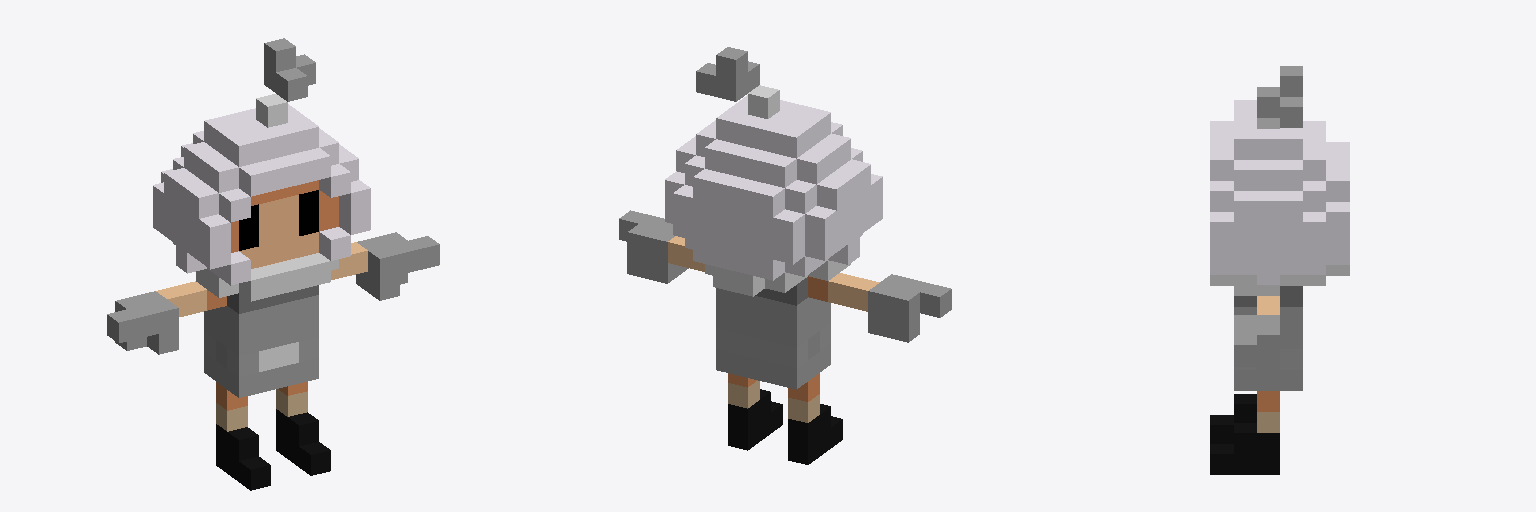
3 views of the same model, side by side, from view 1: azimuth 30°, elevation 25°; view 2: azimuth 150°, elevation 25°; view 3: azimuth 270°, elevation 25° (orthographic).
Bounding box in the file's own units: 16 × 19 × 6.
1 materials, 1 textured.